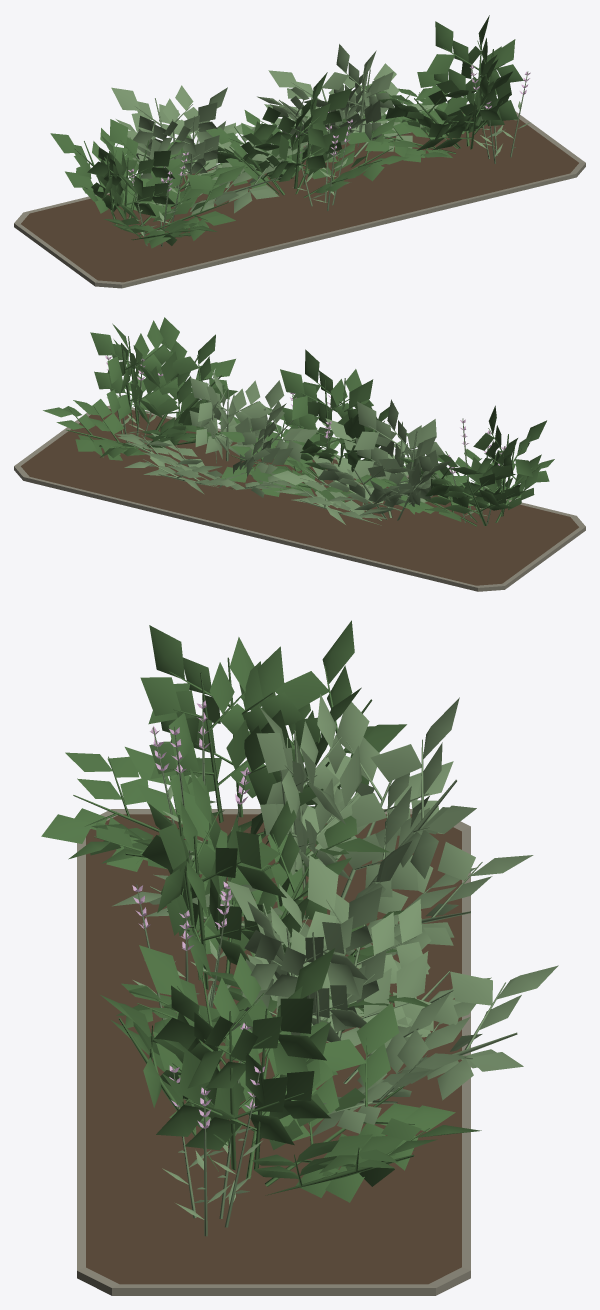
Rendered from shrub-bed.glb.
3 renders of one model, top to bottom at view 1: azimuth 30°, elevation 25°; view 2: azimuth 150°, elevation 25°; view 3: azimuth 270°, elevation 25°, orthographic. The views are drawn at different scales.
Size of the model in its own units: 3.72 by 0.9251 by 1.7.
